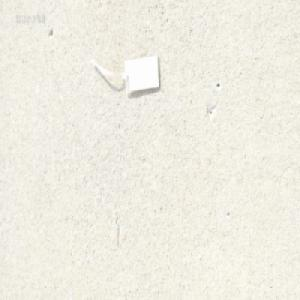LuggageTag: (88, 50, 160, 96)
